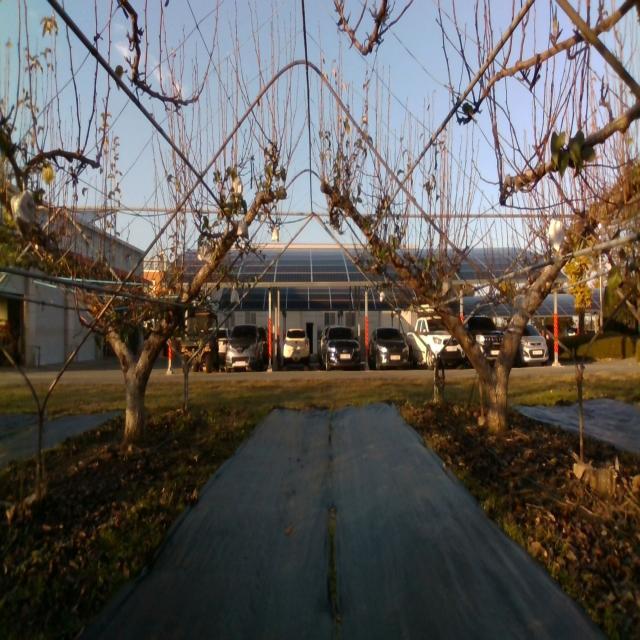pearbags: (9, 188, 36, 240), (549, 218, 566, 250), (201, 238, 214, 264), (232, 175, 244, 198), (238, 220, 250, 240), (442, 278, 453, 296)
